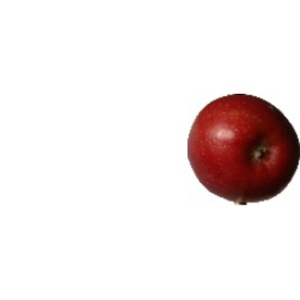maçã braeburn: (185, 93, 300, 201)
